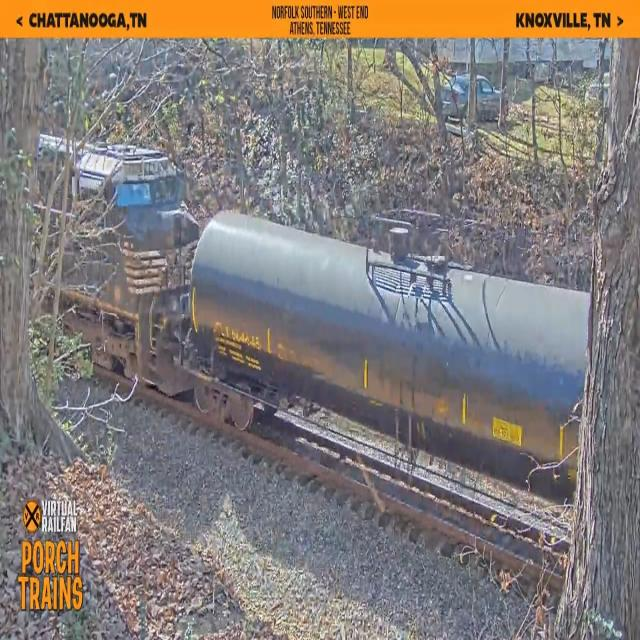locomotive: (42, 126, 202, 409)
tank: (182, 199, 578, 519)
